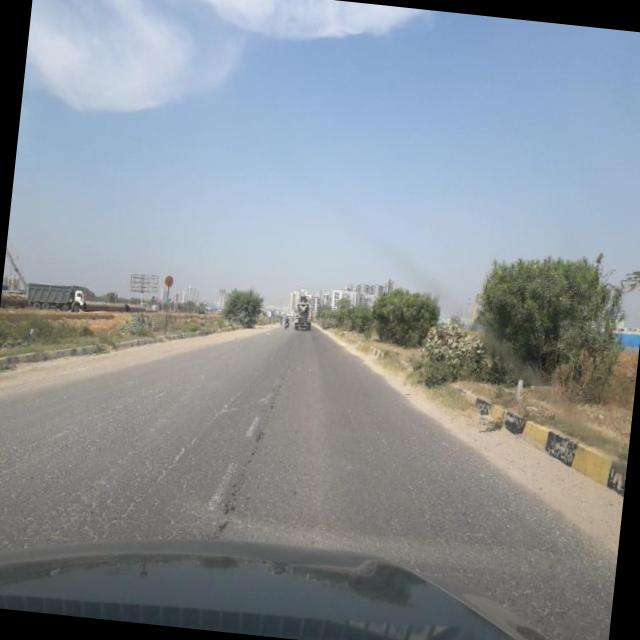crack: (0, 398, 619, 597), (124, 375, 244, 522)
